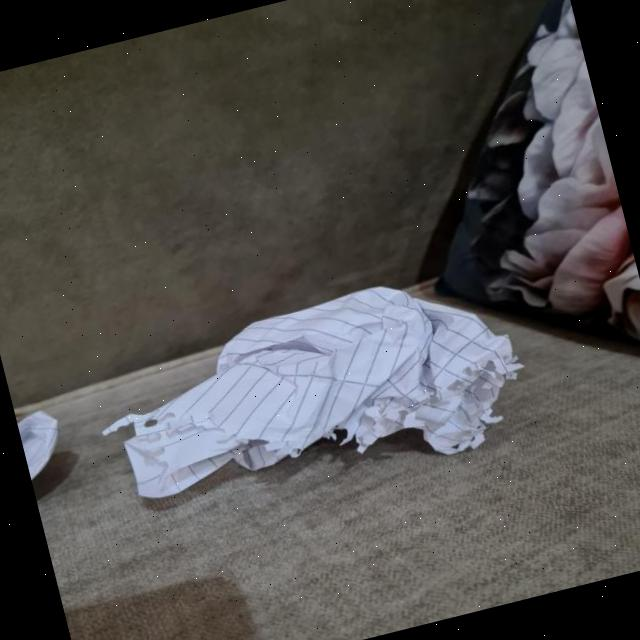trash: (92, 250, 532, 518)
